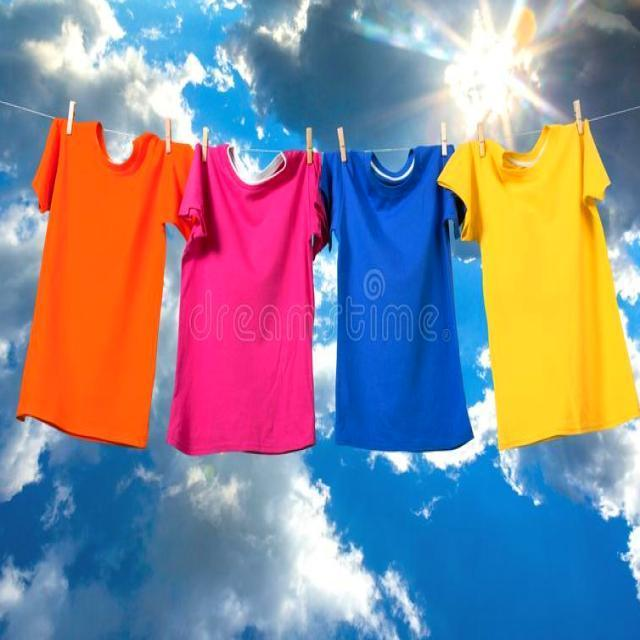clothes: (436, 99, 638, 449), (161, 116, 325, 457), (316, 136, 477, 456), (26, 92, 158, 442)
